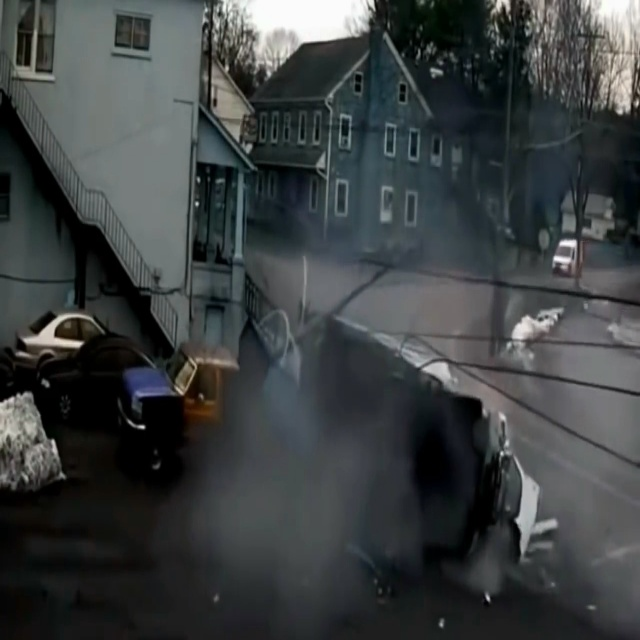acc: (303, 299, 541, 608)
